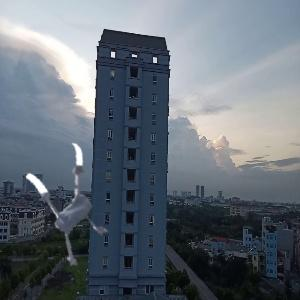drone: (4, 144, 128, 268)
